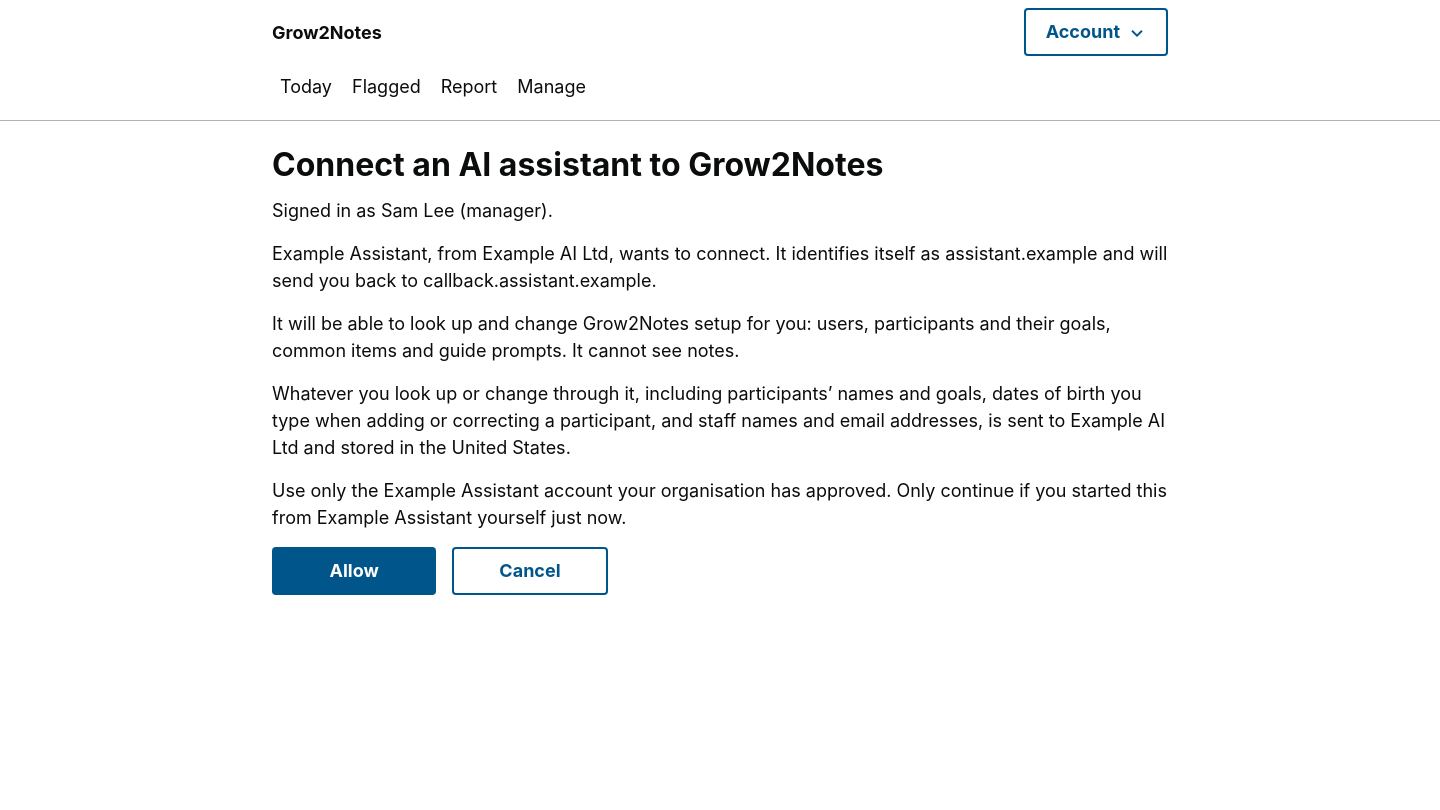
Test case: a manager or a Support account › says that Cancel failed for no connection
Click the button "Cancel" at coordinates (530, 571), box left=452, top=547, right=608, bottom=595
Wait 2 ms
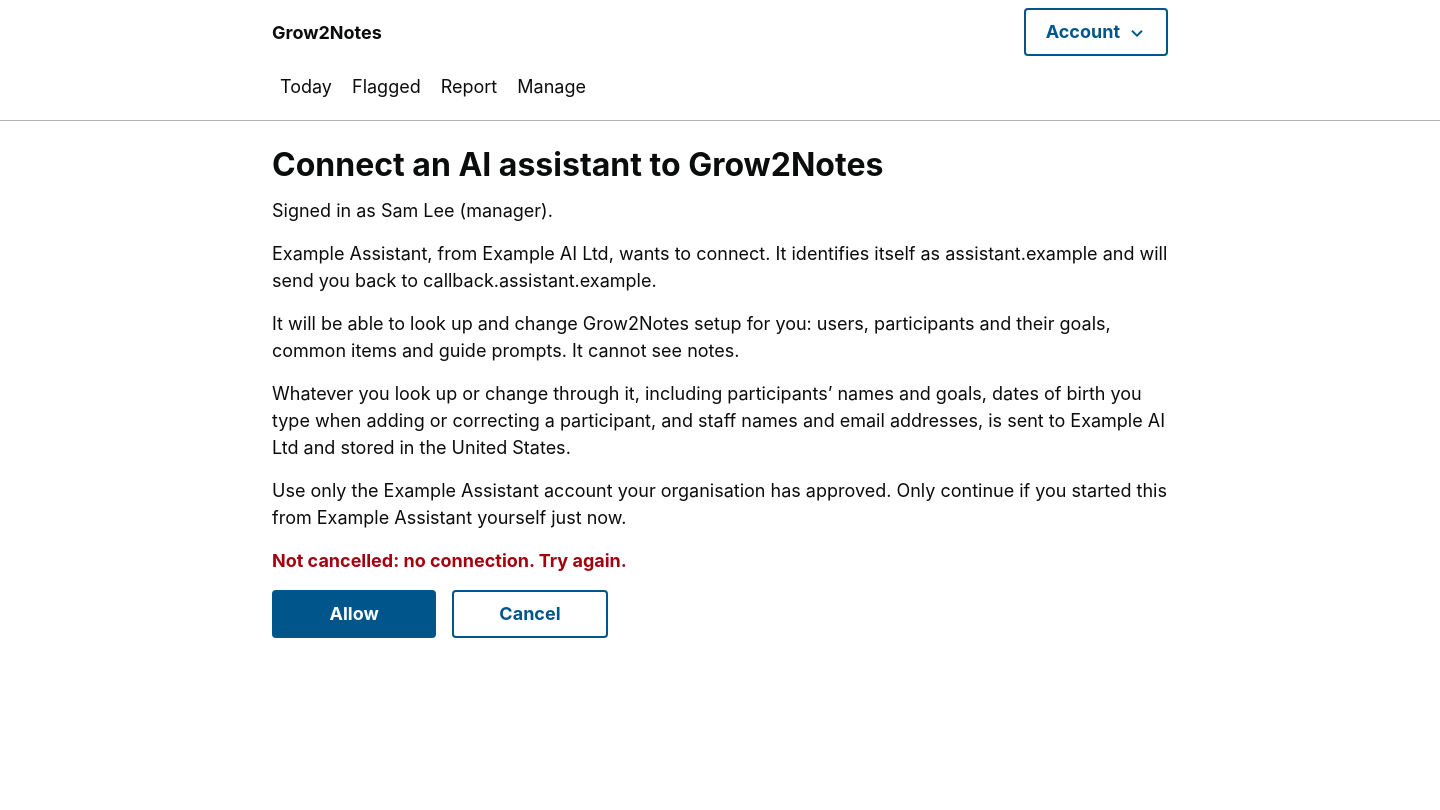
Expected: the message reads "Not cancelled: no connection. Try again.", left=272, top=550, right=627, bottom=571
